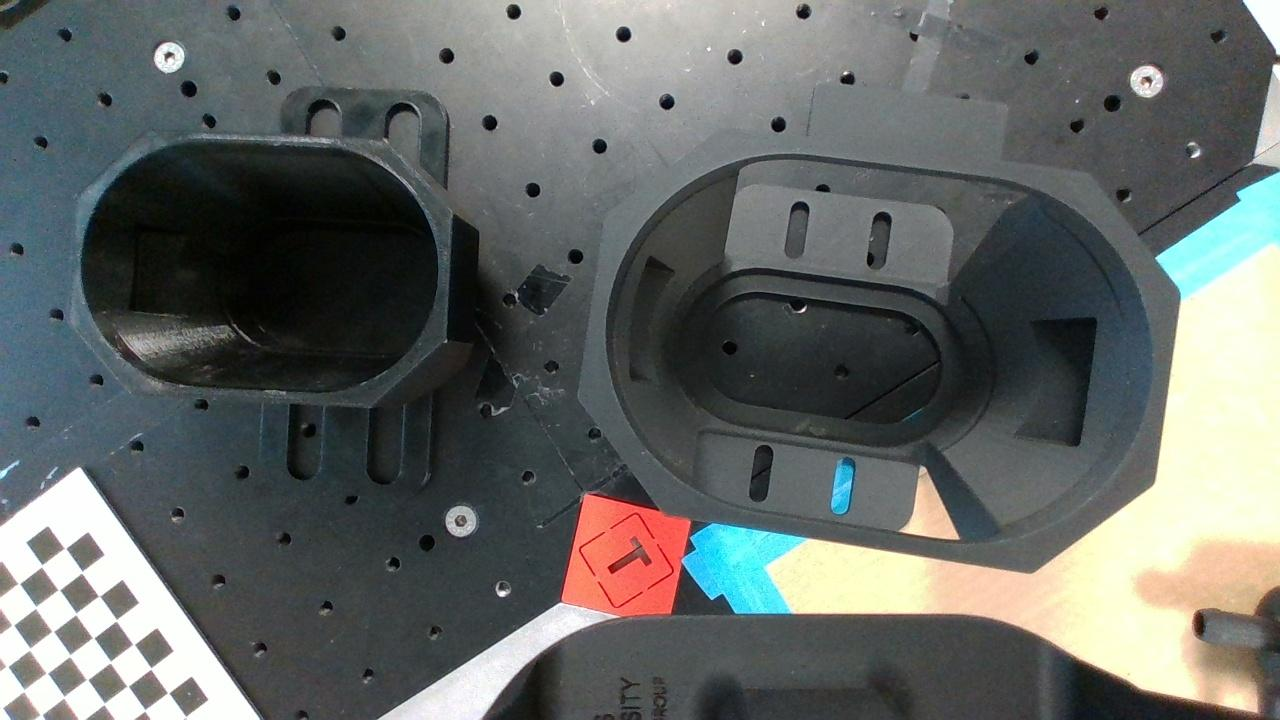big_interface: (577, 131, 1183, 575)
small_interface: (67, 129, 455, 407)
